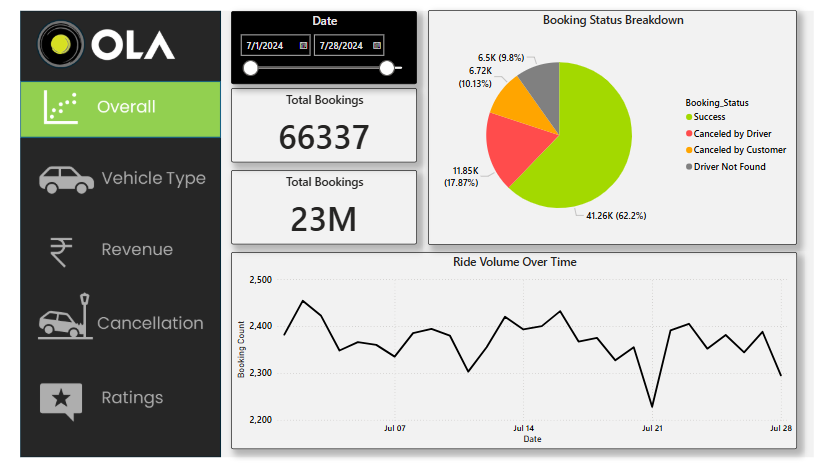

What the dashboard file says about the page in this screenshot:
{"tool":"powerbi","page":{"name":"Overall","canvas":[1500,800],"ordinal":0},"visuals":[{"type":"actionButton","box":[0,221.1,327.4,90.7],"z":0},{"type":"actionButton","box":[0,335.9,327.4,90.7],"z":1000},{"type":"actionButton","box":[0,443.6,327.4,90.7],"z":2000},{"type":"actionButton","box":[0,576.9,327.4,90.7],"z":3000},{"type":"lineChart","title":"Ride Volume Over Time","fields":{"Category":["July.Date"],"Y":["CountNonNull(July.Booking_ID)"]},"box":[450,425.8,912.9,317.7],"z":4000},{"type":"pieChart","title":"Booking Status Breakdown","fields":{"Category":["July.Booking_Status"],"Y":["CountNonNull(July.Booking_Status)"]},"box":[767.7,35.5,595.2,379],"z":5000},{"type":"slicer","title":"Date","fields":{"Values":["July.Date"]},"box":[450,37.1,300,117.7],"z":6000},{"type":"card","title":"Total Bookings","fields":{"Values":["Count(July.Booking_ID)"]},"box":[450,161.3,300,120],"z":7000},{"type":"card","title":"Total Bookings","fields":{"Values":["Sum(July.Booking_Value)"]},"box":[450,293.3,300,120],"z":8000}]}

Visuals, with their boxes on the page's 1500x800 design canvas (x1, y1, x2, y2). These are canvas units, not pixel positions in the 833x474 screenshot, which may show the page scaled, cropped or inside an application window:
actionButton: BBox(0, 221, 327, 312)
actionButton: BBox(0, 336, 327, 427)
actionButton: BBox(0, 444, 327, 534)
actionButton: BBox(0, 577, 327, 668)
"Ride Volume Over Time" lineChart: BBox(450, 426, 1363, 744)
"Booking Status Breakdown" pieChart: BBox(768, 36, 1363, 414)
"Date" slicer: BBox(450, 37, 750, 155)
"Total Bookings" card: BBox(450, 161, 750, 281)
"Total Bookings" card: BBox(450, 293, 750, 413)
